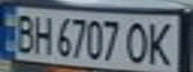0: (84, 16, 106, 61)
6: (51, 14, 72, 57)
7: (100, 17, 124, 63), (69, 15, 87, 60)
B: (9, 10, 39, 54)
H: (30, 11, 54, 55)
K: (142, 18, 181, 68)
O: (124, 18, 151, 65)
